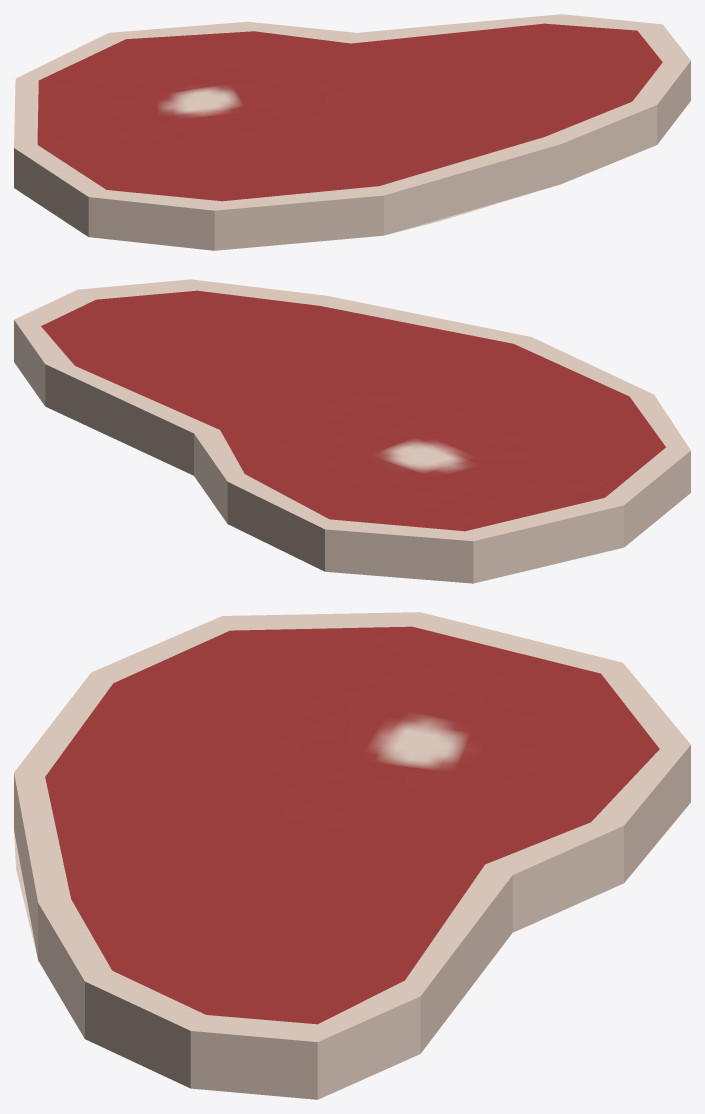
Rendered from Steak.fbx.
The picture shows the model from 3 angles, top to bottom: view 1: azimuth 30°, elevation 25°; view 2: azimuth 150°, elevation 25°; view 3: azimuth 270°, elevation 25°; orthographic projection. The views are drawn at different scales.
Visible parts, largest first — view 1: Steak; view 2: Steak; view 3: Steak.
Boxes of the visible parts, box(x1,y1,x2,y2) form: Steak: box(14, 14, 690, 250); Steak: box(14, 279, 690, 583); Steak: box(14, 612, 690, 1099).
Bounding box in the file's own units: 1.9 × 0.1187 × 1.26.
